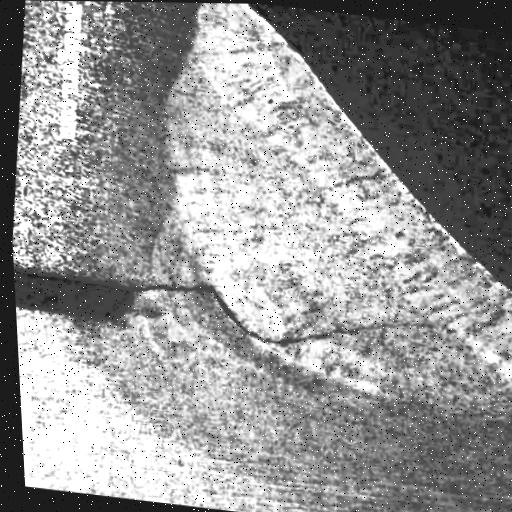crack: (209, 292, 425, 365), (129, 265, 229, 323)
